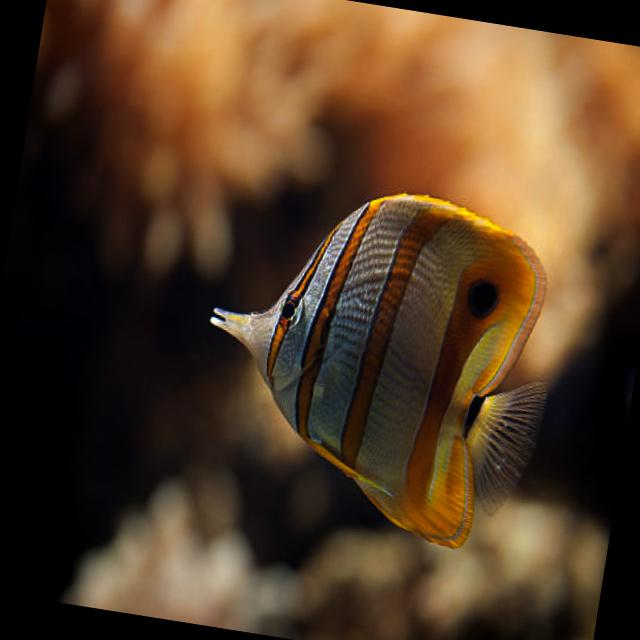ButterflyFish: (183, 170, 574, 561)
